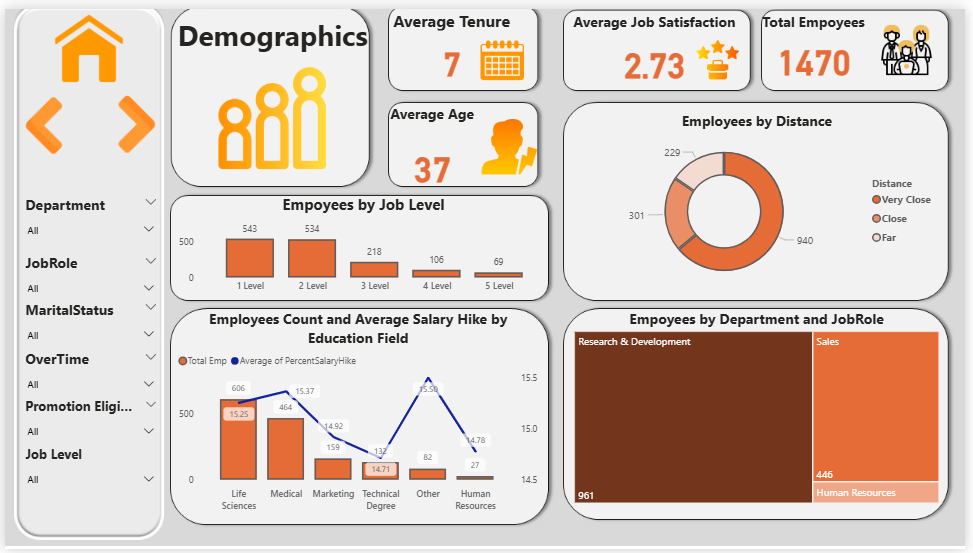

The page's visual inventory and layout, read from the dashboard file:
{"tool":"powerbi","page":{"name":"Demographics ","canvas":[1280,720],"ordinal":2},"visuals":[{"type":"lineStackedColumnComboChart","title":"Employees Count and Average Salary Hike by Education Field","fields":{"Category":["Data.EducationField"],"Y":["_Measures.Total Emp"],"Y2":["Avg(Data.PercentSalaryHike)"]},"box":[226.1,400.1,489.6,278.1],"z":0},{"type":"donutChart","title":"Employees by Distance ","fields":{"Category":["Data.Distance "],"Y":["_Measures.Total Emp"]},"box":[756.3,135,492.8,242.4],"z":1000},{"type":"card","title":"Total Empoyees","fields":{"Values":["_Measures.Total Emp"]},"box":[1003.6,4.9,148,100.8],"z":2000},{"type":"card","title":"Average Tenure","fields":{"Values":["_Measures.Avg Tenure"]},"box":[505.9,0,178.9,109],"z":3000},{"type":"image","box":[1163,0,79.7,109],"z":4000},{"type":"card","title":"Average Job Satisfaction ","fields":{"Values":["_Measures.Avg Job Satisfaction"]},"box":[730.3,4.9,271.6,109],"z":5000,"group":"g1"},{"type":"treemap","title":"Empoyees by Department and JobRole","fields":{"Group":["Data.Department","Data.JobRole"],"Values":["_Measures.Total Emp"]},"box":[753.1,400.1,496.1,263.5],"z":5000},{"type":"card","title":"Average Age ","fields":{"Values":["Avg(Data.Age)"]},"box":[505.9,125.2,126.9,115.5],"z":6000},{"type":"image","box":[629.5,125.2,84.6,115.5],"z":7000},{"type":"image","box":[596.9,34.2,133.4,68.3],"z":8000},{"type":"textbox","box":[198.4,4.9,328.6,97.6],"z":9000,"group":"g2"},{"type":"image","box":[881.6,30.9,136.6,74.8],"z":9000,"group":"g1"},{"type":"clusteredColumnChart","title":"Empoyees by Job Level","fields":{"Y":["_Measures.Total Emp"],"Category":["Data.JobLevel2"]},"box":[226.1,245.6,504.2,141.5],"z":9000},{"type":"group","id":"g1","title":"Group 1","box":[730.3,4.9,287.9,109],"z":10000},{"type":"image","box":[226.1,53.7,260.2,187.1],"z":10000,"group":"g2"},{"type":"group","id":"g2","title":"Group 2","box":[198.4,4.9,328.6,235.8],"z":11000},{"type":"slicer","fields":{"Values":["Data.Department"]},"box":[13,242,200,80],"z":12000},{"type":"image","box":[12.5,0,200,105],"z":13000},{"type":"image","box":[130,108,91,91],"z":14000},{"type":"image","box":[5,110,92.5,90],"z":15000},{"type":"slicer","fields":{"Values":["Data.JobRole"]},"box":[13,319.9,200,65],"z":16000},{"type":"slicer","fields":{"Values":["Data.MaritalStatus"]},"box":[13.3,382.9,200,66.7],"z":17000},{"type":"slicer","fields":{"Values":["Data.OverTime"]},"box":[13.3,447.5,200,66.7],"z":18000},{"type":"slicer","fields":{"Values":["Data.Promotion Eligible"]},"box":[13.3,512.1,200,66.7],"z":19000},{"type":"slicer","fields":{"Values":["Data.JobLevel2"]},"box":[13.3,576.7,200,66.7],"z":20000}]}

Visuals, with their boxes in screenshot pixels (x1, y1, x2, y2), scaled from the page's 1280x720 canvas onto the 973x553 screenshot:
"Employees Count and Average Salary Hike by Education Field" lineStackedColumnComboChart: <region>172, 307, 544, 521</region>
"Employees by Distance " donutChart: <region>575, 104, 950, 290</region>
"Total Empoyees" card: <region>763, 4, 875, 81</region>
"Average Tenure" card: <region>385, 0, 521, 84</region>
image: <region>884, 0, 945, 84</region>
"Average Job Satisfaction " card: <region>555, 4, 762, 87</region>
"Empoyees by Department and JobRole" treemap: <region>572, 307, 950, 510</region>
"Average Age " card: <region>385, 96, 481, 185</region>
image: <region>479, 96, 543, 185</region>
image: <region>454, 26, 555, 79</region>
textbox: <region>151, 4, 401, 79</region>
image: <region>670, 24, 774, 81</region>
"Empoyees by Job Level" clusteredColumnChart: <region>172, 189, 555, 297</region>
"Group 1" group: <region>555, 4, 774, 87</region>
image: <region>172, 41, 370, 185</region>
"Group 2" group: <region>151, 4, 401, 185</region>
slicer - Data.Department: <region>10, 186, 162, 247</region>
image: <region>10, 0, 162, 81</region>
image: <region>99, 83, 168, 153</region>
image: <region>4, 84, 74, 154</region>
slicer - Data.JobRole: <region>10, 246, 162, 296</region>
slicer - Data.MaritalStatus: <region>10, 294, 162, 345</region>
slicer - Data.OverTime: <region>10, 344, 162, 395</region>
slicer - Data.Promotion Eligible: <region>10, 393, 162, 445</region>
slicer - Data.JobLevel2: <region>10, 443, 162, 494</region>
